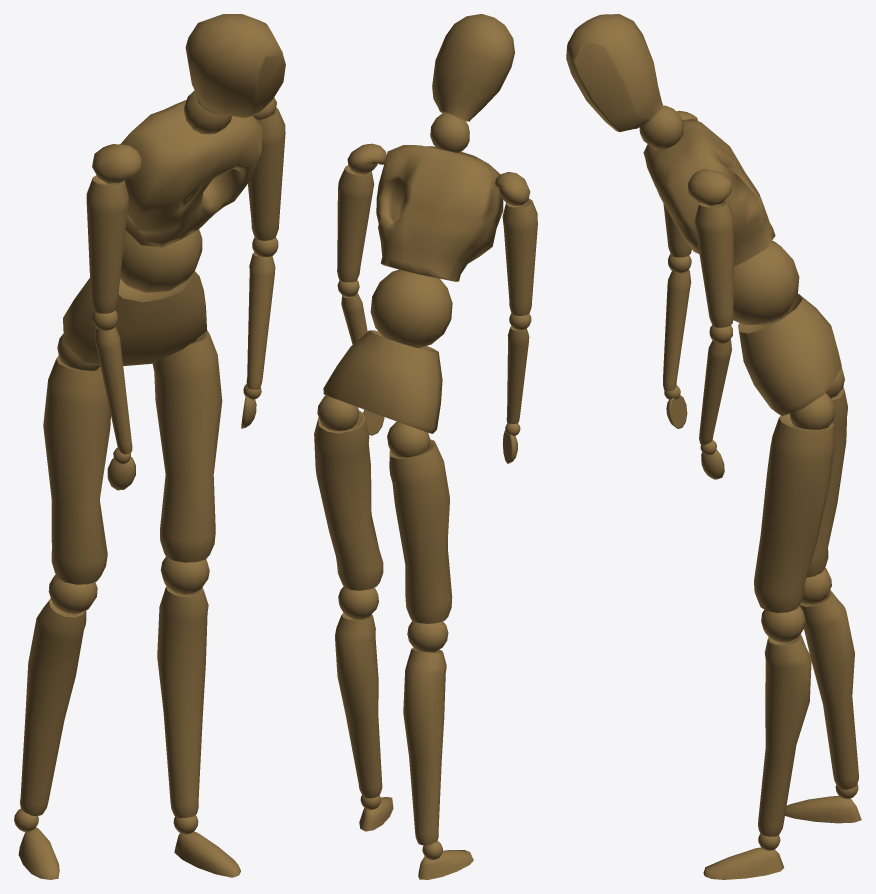
File: maniqui_pose15.fbx
3 renders of one model, left to right at view 1: azimuth 30°, elevation 25°; view 2: azimuth 150°, elevation 25°; view 3: azimuth 270°, elevation 25°, orthographic. The views are drawn at different scales.
Parts seen in each view (by area): view 1: dummy_obj.005; view 2: dummy_obj.005; view 3: dummy_obj.005.
Boxes of the visible parts, <box> form: dummy_obj.005: <box>14,14,285,879</box>; dummy_obj.005: <box>314,14,537,879</box>; dummy_obj.005: <box>566,14,861,879</box>.
Bounding box in the file's own units: 40.85 × 167 × 53.77.
